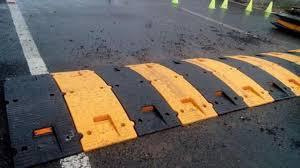Speed_Breaker: (5, 46, 300, 168), (4, 47, 299, 167)
